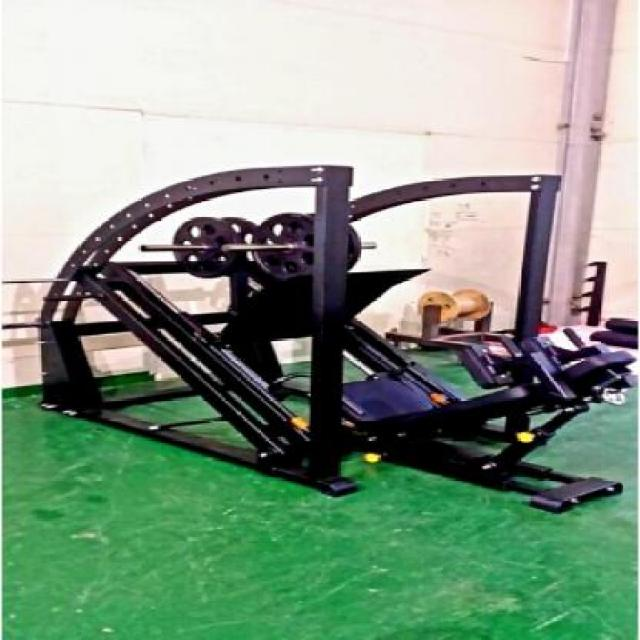leg press: (20, 134, 634, 521)
